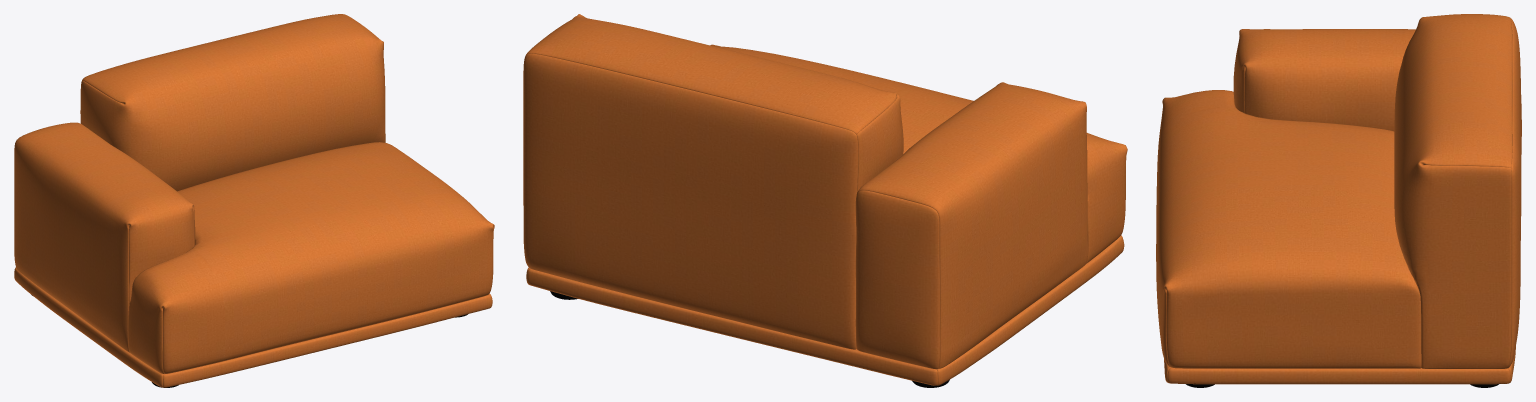
The model's file is HALLINGDAL-547.glb.
The picture shows the model from 3 angles, left to right: view 1: azimuth 30°, elevation 25°; view 2: azimuth 150°, elevation 25°; view 3: azimuth 270°, elevation 25°; orthographic projection. The views are drawn at different scales.
Parts seen in each view (by area): view 1: Upholstery_ARSD0; view 2: Upholstery_ARSD0; view 3: Upholstery_ARSD0.
Part boxes in pixels (left/top/right/bottom): Upholstery_ARSD0: left=14, top=14, right=494, bottom=387; Upholstery_ARSD0: left=523, top=14, right=1127, bottom=385; Upholstery_ARSD0: left=1156, top=14, right=1521, bottom=384.
Bounding box in the file's own units: 1.2 × 0.697 × 0.9539.
Materials: 2 (2 with a texture image).
